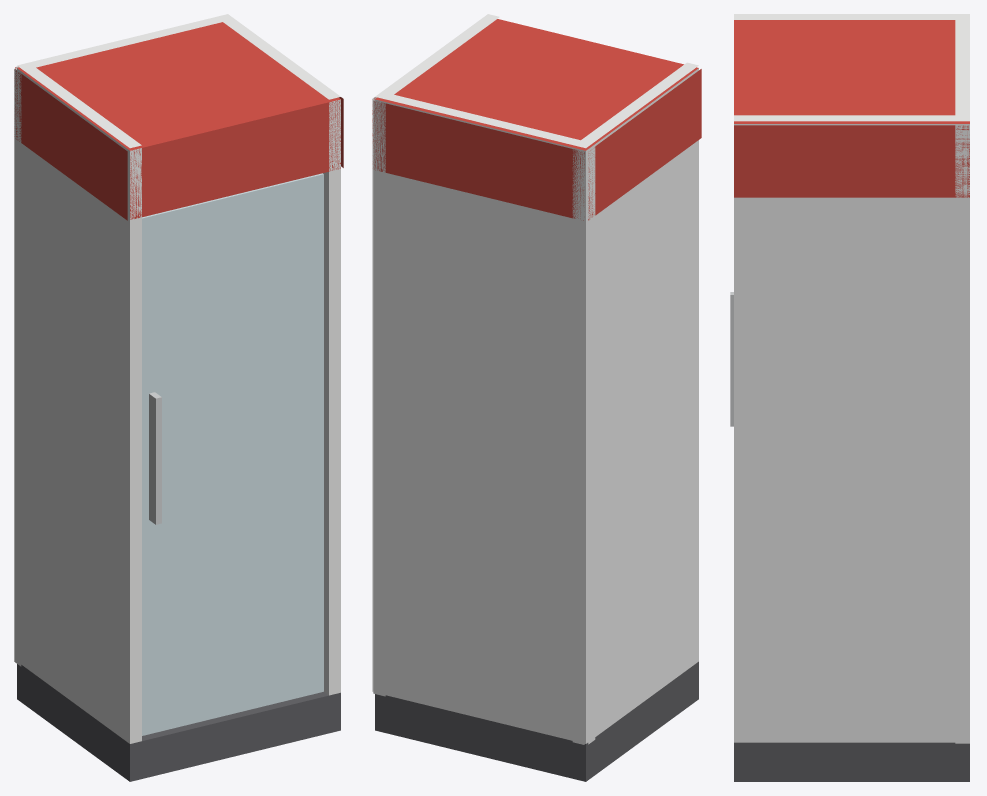
File: Drinks_Cooler.fbx
3 renders of one model, left to right at view 1: azimuth 30°, elevation 25°; view 2: azimuth 150°, elevation 25°; view 3: azimuth 270°, elevation 25°, orthographic. The views are drawn at different scales.
Visible parts, largest first — view 1: Drinks_Cooler; view 2: Drinks_Cooler; view 3: Drinks_Cooler.
Boxes of the visible parts, x1,y1,x2,y2 form: Drinks_Cooler: [14, 14, 343, 781]; Drinks_Cooler: [372, 14, 701, 781]; Drinks_Cooler: [730, 14, 969, 781].
Bounding box in the file's own units: 0.716 × 2.01 × 0.668.
